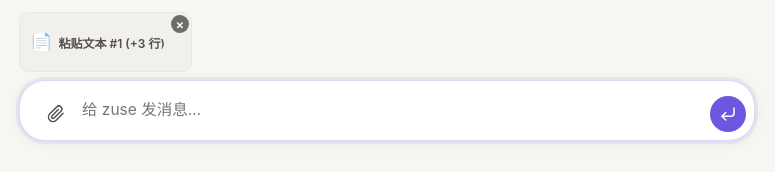
Test: Composer › × removes a pasted card
Click the button named "移除 粘贴文本 #1" at [180, 24], box [171,15,189,33]
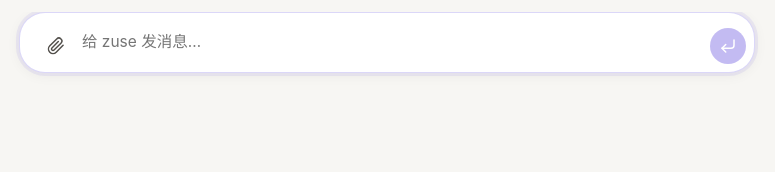
Expected: the button "粘贴文本 #1" is gone
